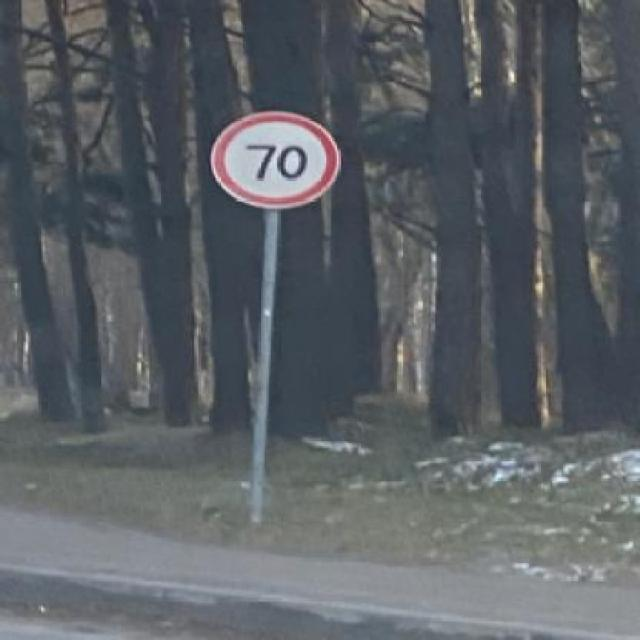speed limit 70: (209, 111, 340, 209)
